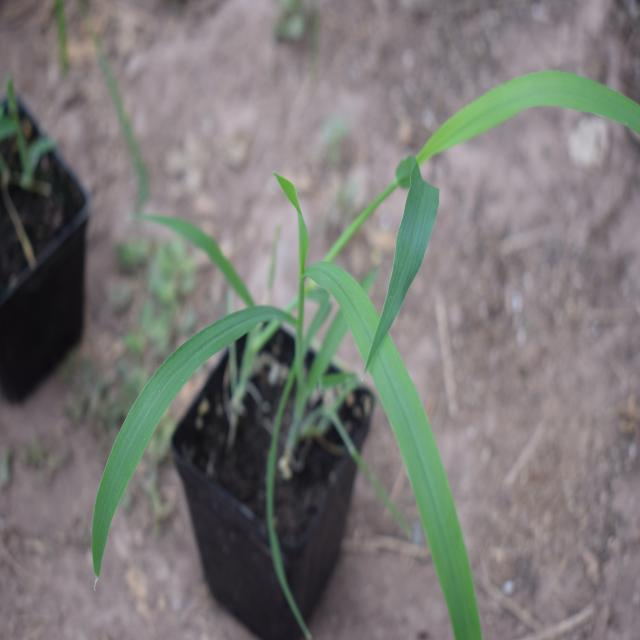crabgrass: (88, 137, 481, 620)
